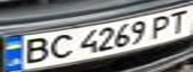2: (93, 24, 118, 53)
4: (75, 26, 100, 55)
6: (115, 20, 136, 50)
9: (127, 18, 154, 45)
B: (15, 35, 54, 65)
C: (42, 33, 78, 61)
P: (145, 12, 178, 39)
T: (163, 7, 193, 35)
